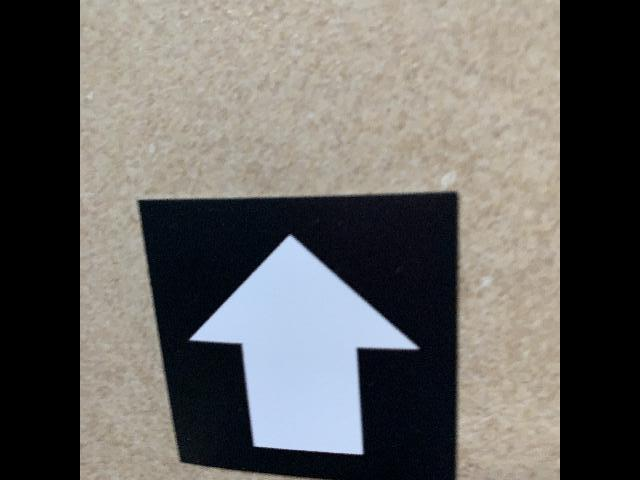up_arrow: (135, 191, 461, 480)
